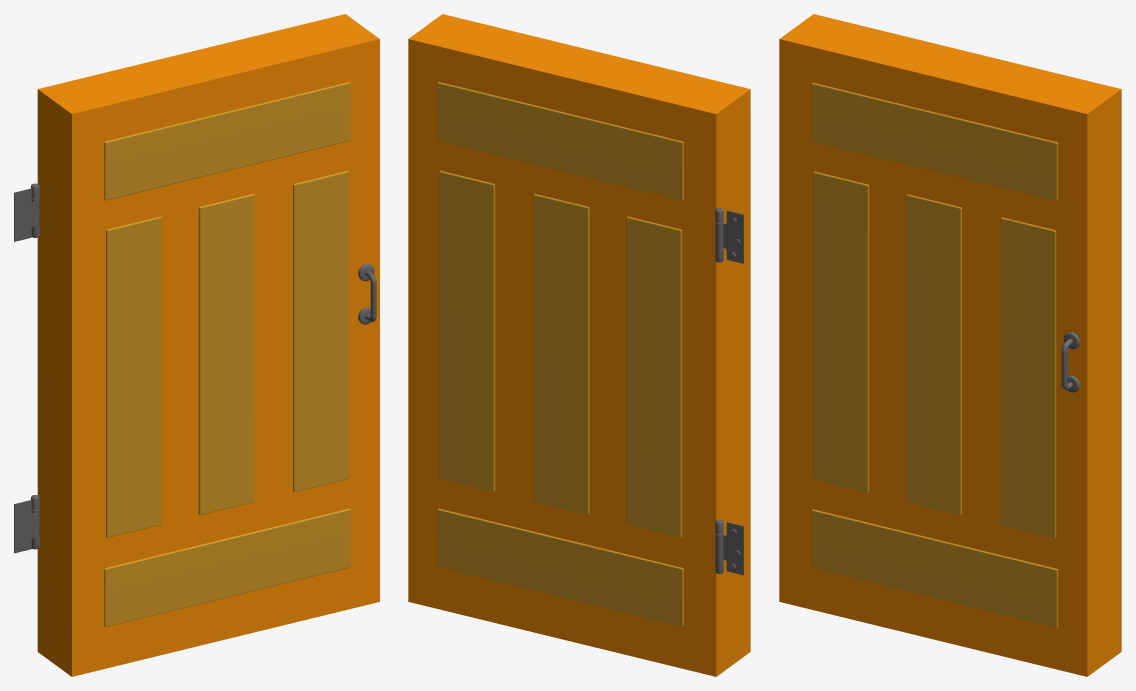
File: haalga1.glb
The picture shows the model from 3 angles, left to right: view 1: azimuth 30°, elevation 25°; view 2: azimuth 150°, elevation 25°; view 3: azimuth 330°, elevation 25°; orthographic projection.
Visible parts, largest first — view 1: polySurface6, polySurface1, polySurface2, polySurface3, polySurface5, polySurface4, pasted__pasted__pasted__Disc_5_7, pasted__pasted__pasted__pasted__pasted__Object_3; view 2: polySurface6, polySurface3, polySurface1, polySurface2, polySurface4, polySurface5, pasted__pasted__pasted__Disc_5_7; view 3: polySurface6, polySurface1, polySurface3, polySurface2, polySurface4, polySurface5, pasted__pasted__pasted__pasted__pasted__Object_3.
Part boxes in pixels (x1=…): polySurface6: x1=37, y1=14, x2=379, y2=676; polySurface1: x1=293, y1=170, x2=349, y2=492; polySurface2: x1=198, y1=193, x2=254, y2=515; polySurface3: x1=106, y1=216, x2=161, y2=537; polySurface5: x1=104, y1=508, x2=350, y2=627; polySurface4: x1=104, y1=82, x2=350, y2=200; pasted__pasted__pasted__Disc_5_7: x1=14, y1=183, x2=39, y2=553; pasted__pasted__pasted__pasted__pasted__Object_3: x1=358, y1=263, x2=376, y2=324; polySurface6: x1=408, y1=14, x2=750, y2=676; polySurface3: x1=626, y1=216, x2=682, y2=537; polySurface1: x1=439, y1=170, x2=495, y2=492; polySurface2: x1=533, y1=194, x2=589, y2=515; polySurface4: x1=437, y1=82, x2=683, y2=200; polySurface5: x1=437, y1=508, x2=683, y2=627; pasted__pasted__pasted__Disc_5_7: x1=715, y1=208, x2=743, y2=575; polySurface6: x1=779, y1=14, x2=1121, y2=676; polySurface1: x1=1000, y1=217, x2=1056, y2=538; polySurface3: x1=813, y1=171, x2=869, y2=492; polySurface2: x1=906, y1=194, x2=961, y2=515; polySurface4: x1=811, y1=82, x2=1058, y2=201; polySurface5: x1=811, y1=509, x2=1058, y2=627; pasted__pasted__pasted__pasted__pasted__Object_3: x1=1061, y1=332, x2=1079, y2=392.
Bounding box in the file's own units: 3.86 × 6.23 × 0.9176.
